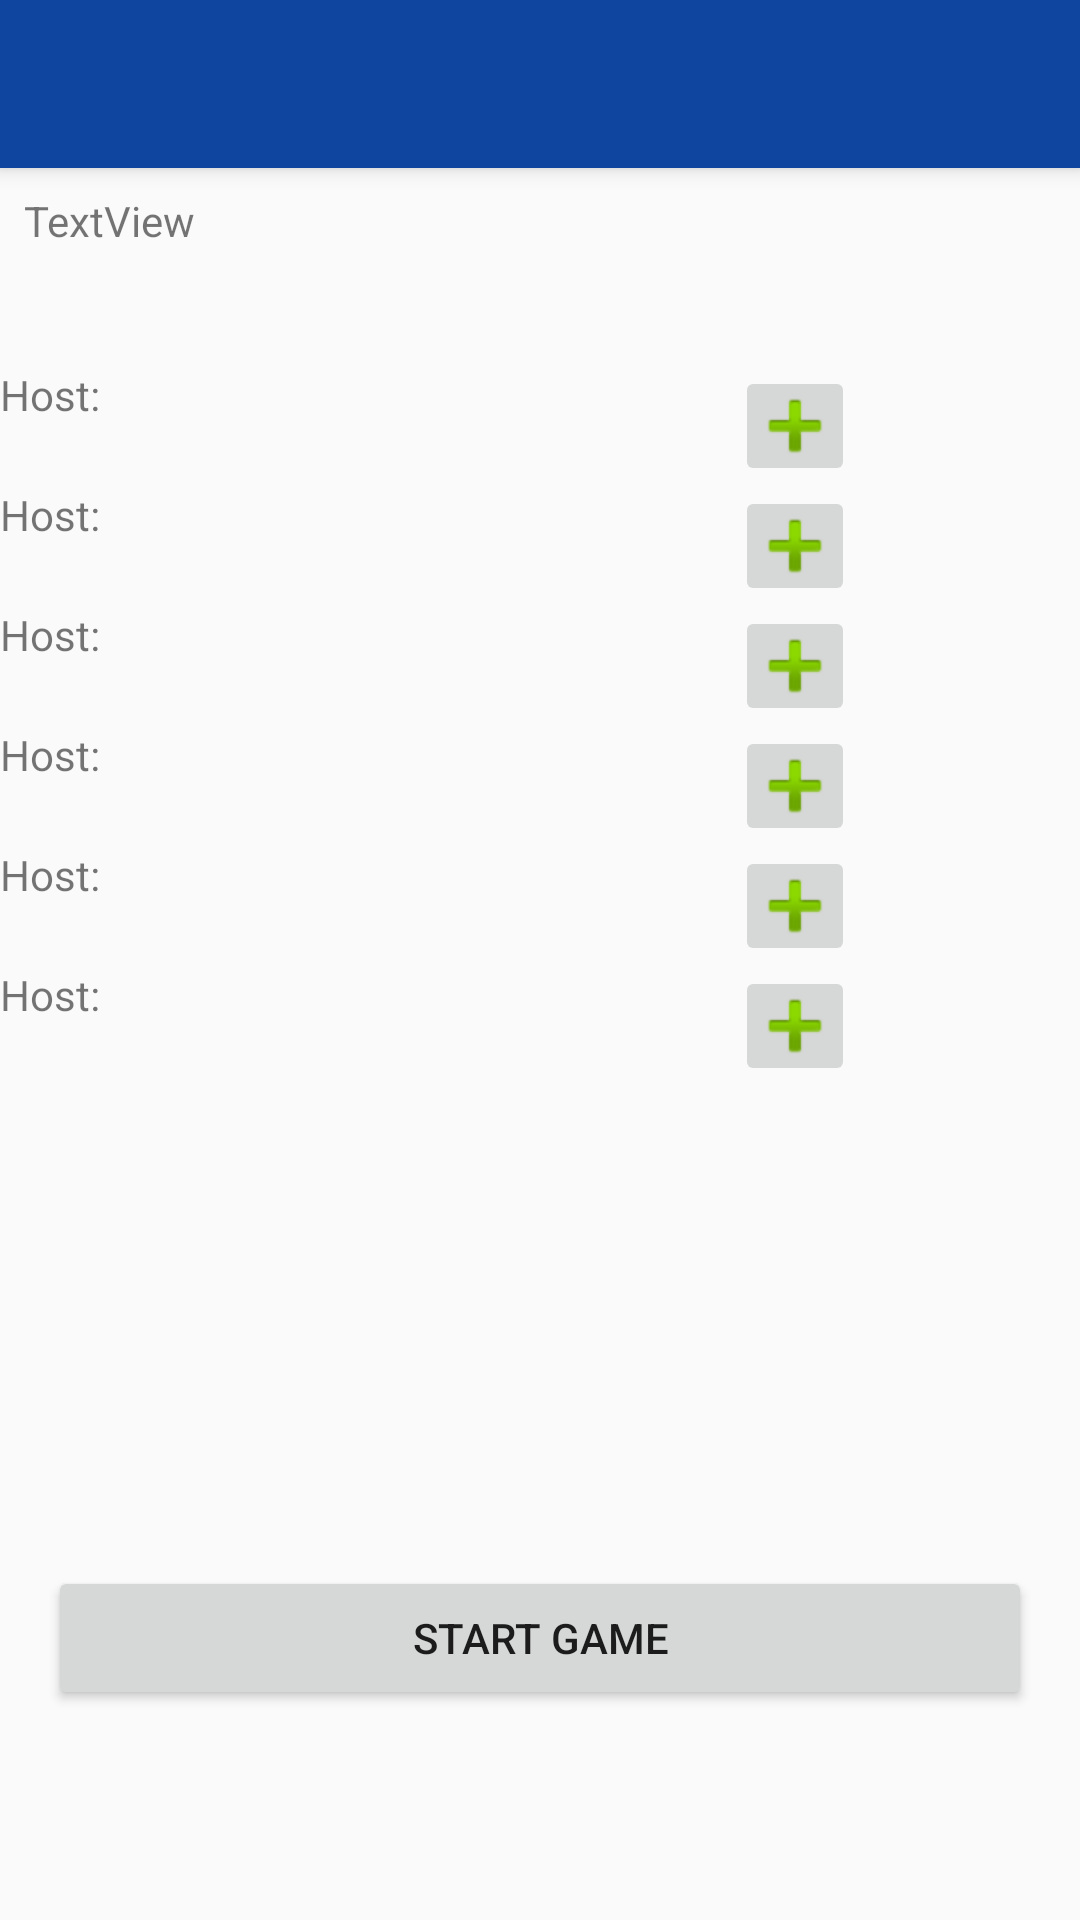

Point at icon controls on the screen. Image size 1080×1920, points as (x,y).
add: (795,426), (795,546), (795,666), (795,786), (795,906), (795,1026)
